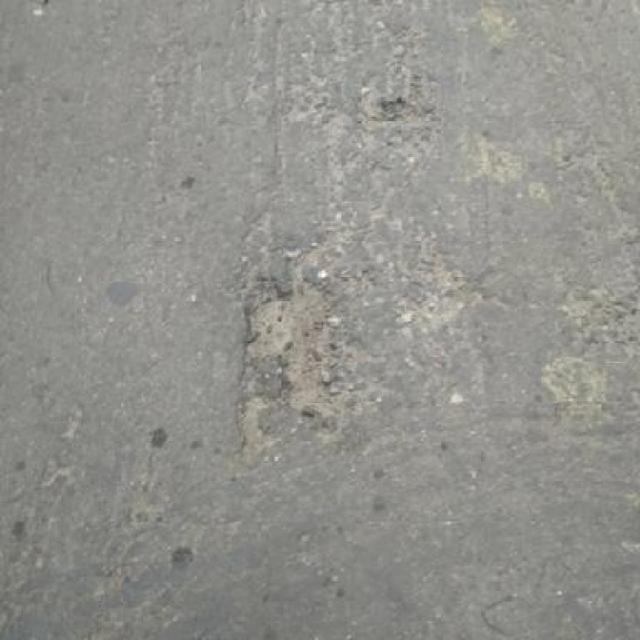Pothole: (232, 276, 370, 450), (378, 98, 432, 128)
